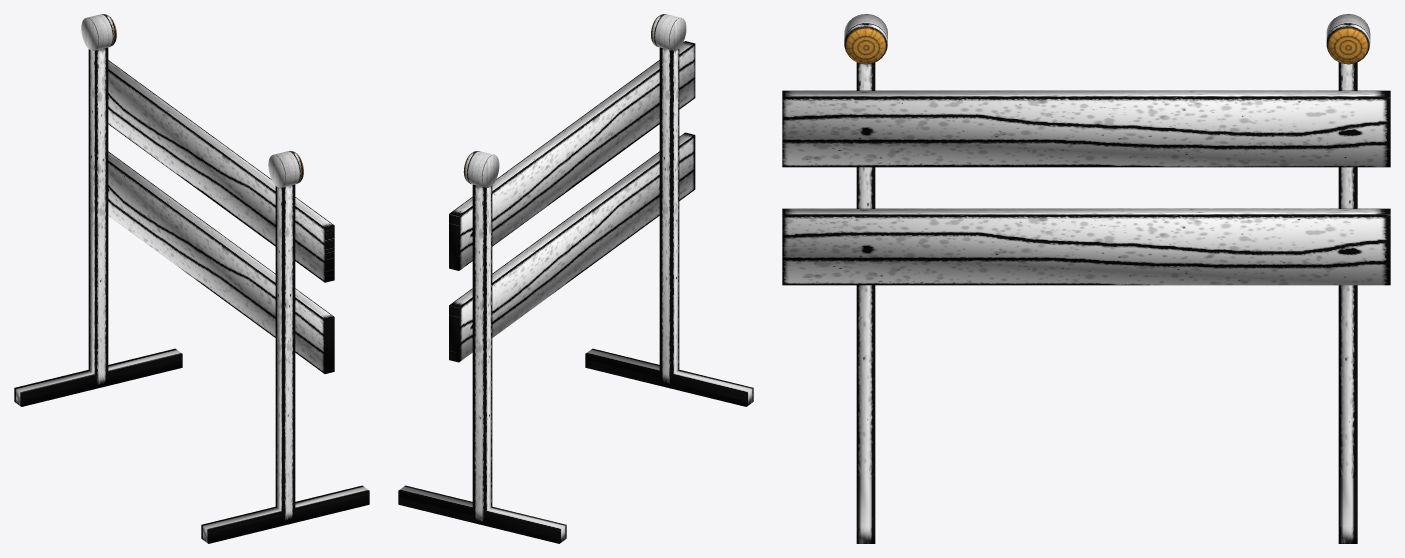
The model's file is streetBarrier.obj.
The picture shows the model from 3 angles, left to right: view 1: azimuth 30°, elevation 25°; view 2: azimuth 150°, elevation 25°; view 3: azimuth 270°, elevation 25°; orthographic projection. The views are drawn at different scales.
Parts seen in each view (by area): view 1: streetBarrier; view 2: streetBarrier; view 3: streetBarrier.
Part boxes in pixels (<box>): streetBarrier: <box>14,14,369,543</box>; streetBarrier: <box>398,14,753,543</box>; streetBarrier: <box>782,14,1390,543</box>.
Bounding box in the file's own units: 1.17 × 2.56 × 2.98.
